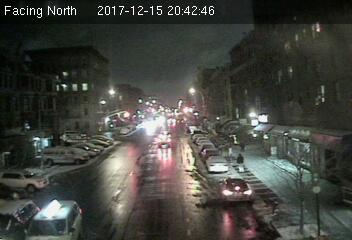car: (26, 199, 82, 240), (220, 176, 254, 203), (206, 155, 229, 173), (156, 136, 172, 148)
pedestrian: (236, 153, 247, 173)
